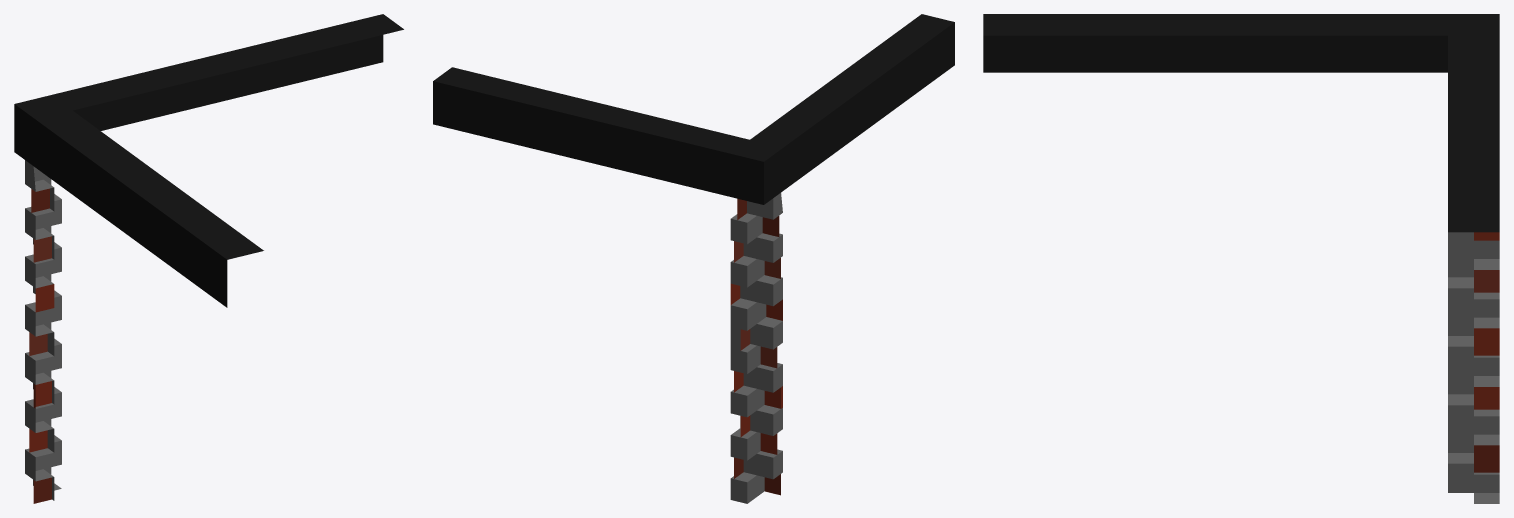
The model's file is Inner_Corner_Wall_Roof_Both.obj.
The picture shows the model from 3 angles, left to right: view 1: azimuth 30°, elevation 25°; view 2: azimuth 150°, elevation 25°; view 3: azimuth 270°, elevation 25°; orthographic projection. The views are drawn at different scales.
Visible parts, largest first — view 1: Inner_Corner_Wall_Roof_Both; view 2: Inner_Corner_Wall_Roof_Both; view 3: Inner_Corner_Wall_Roof_Both.
Boxes of the visible parts, <box> form: Inner_Corner_Wall_Roof_Both: <box>14,14,403,503</box>; Inner_Corner_Wall_Roof_Both: <box>433,14,954,503</box>; Inner_Corner_Wall_Roof_Both: <box>983,14,1499,503</box>.
Size of the model in its own units: 1 by 1 by 1.
